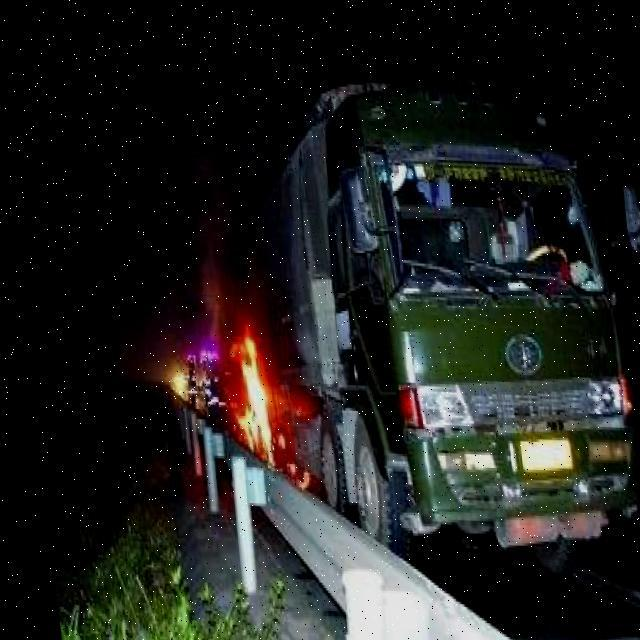Fire: (159, 324, 290, 478)
